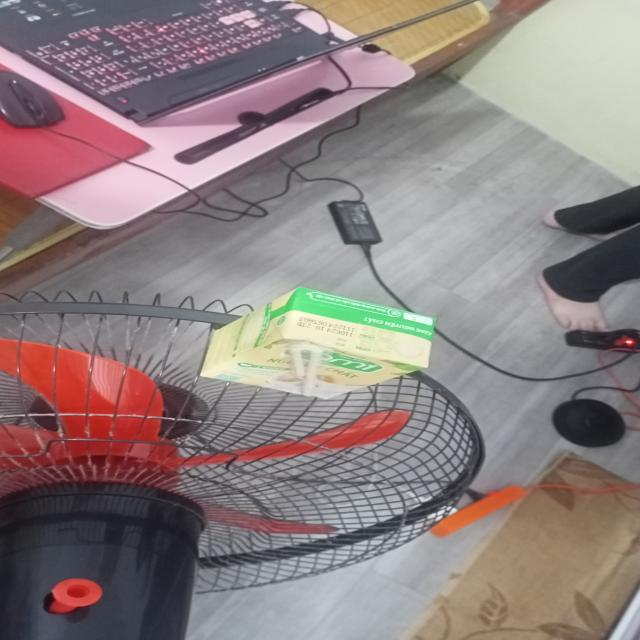Fami: (200, 288, 440, 404)
